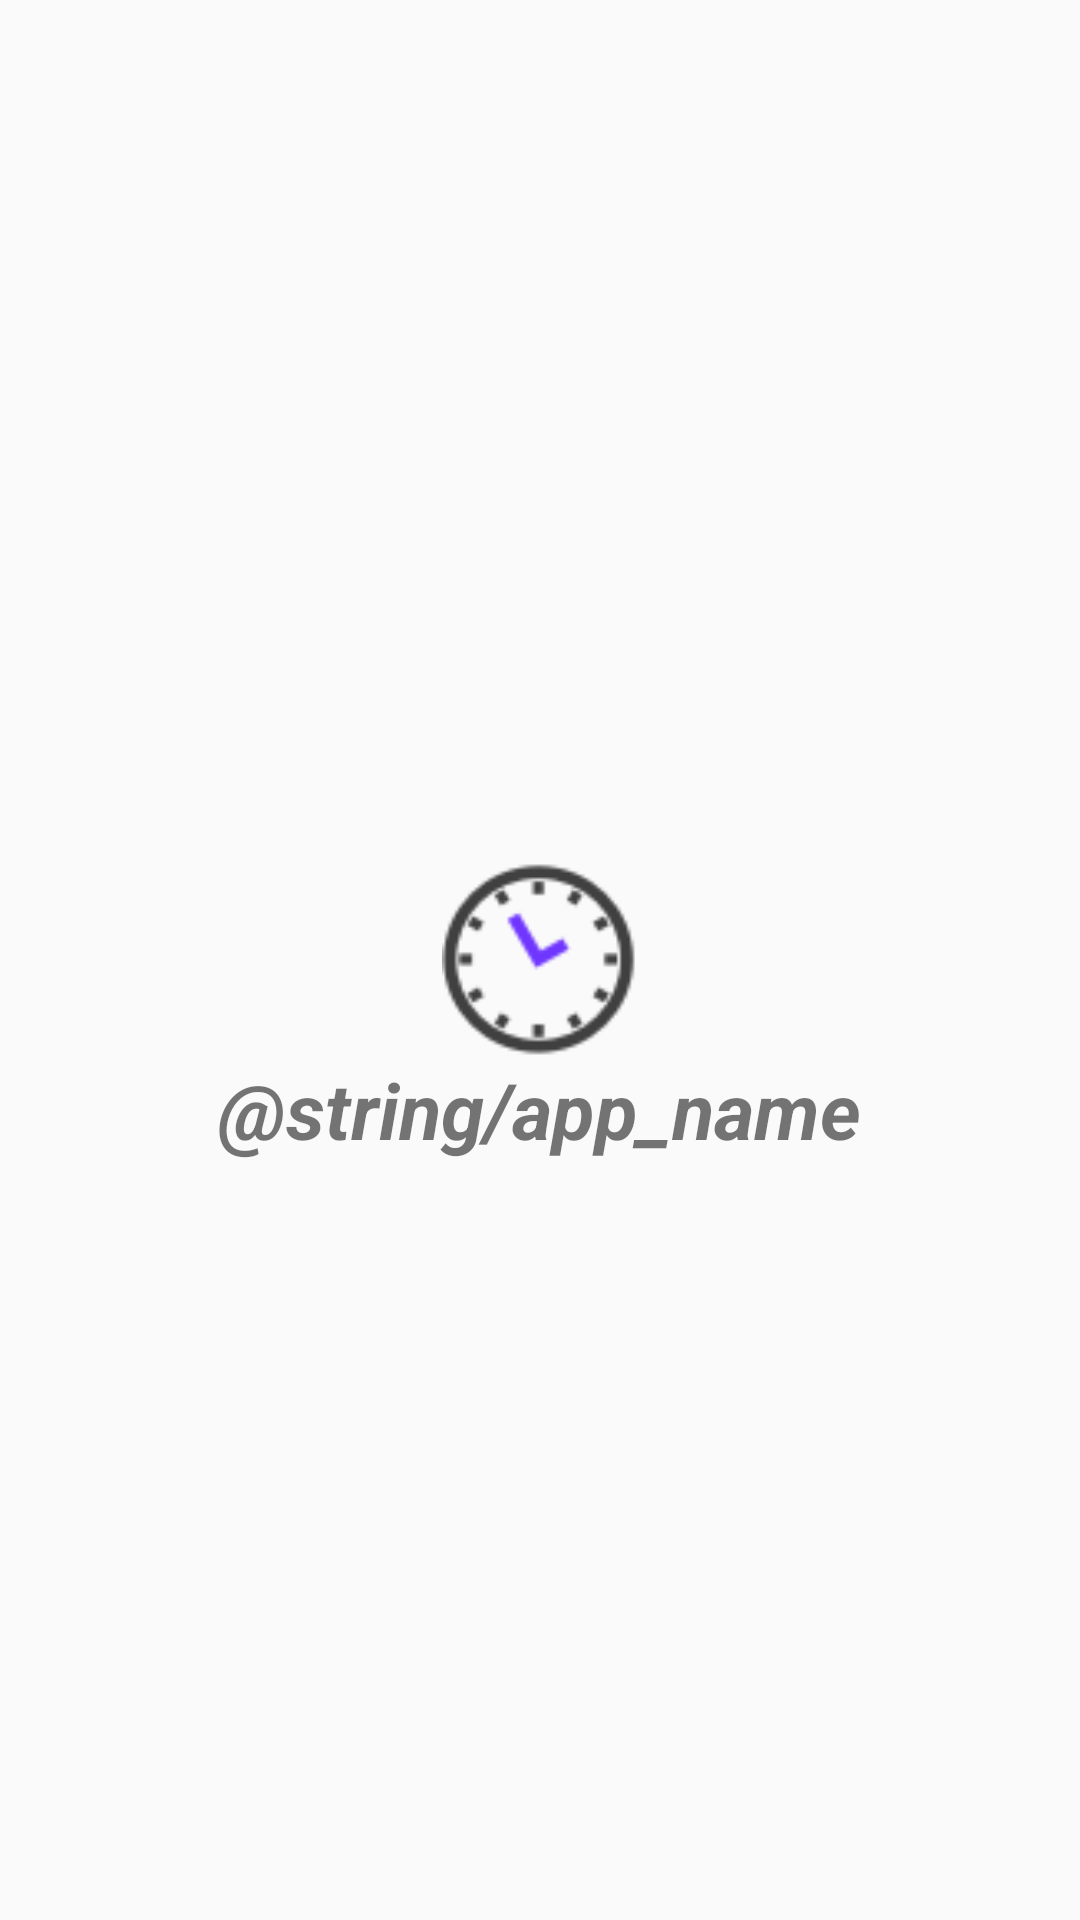

Where to tap for icons on this 1080px x 1920px app screen, as (x,y):
clock: (538,959)
